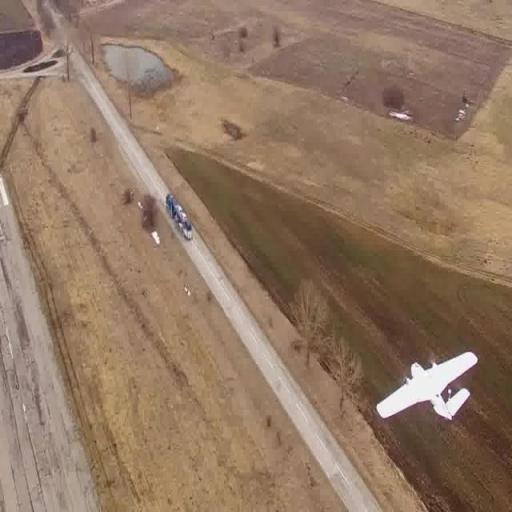uav: (370, 338, 484, 434)
